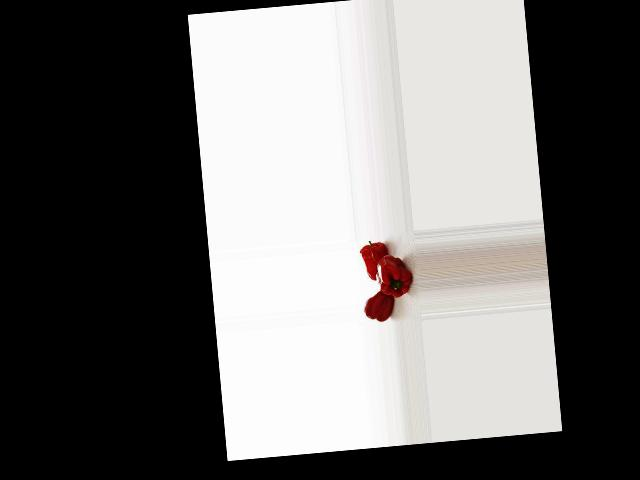bell_pepper: (362, 291, 397, 324)
